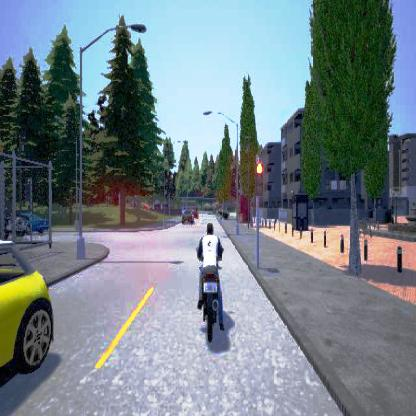motobike: (193, 221, 224, 342)
vehicle: (0, 209, 53, 386), (180, 208, 194, 224)
